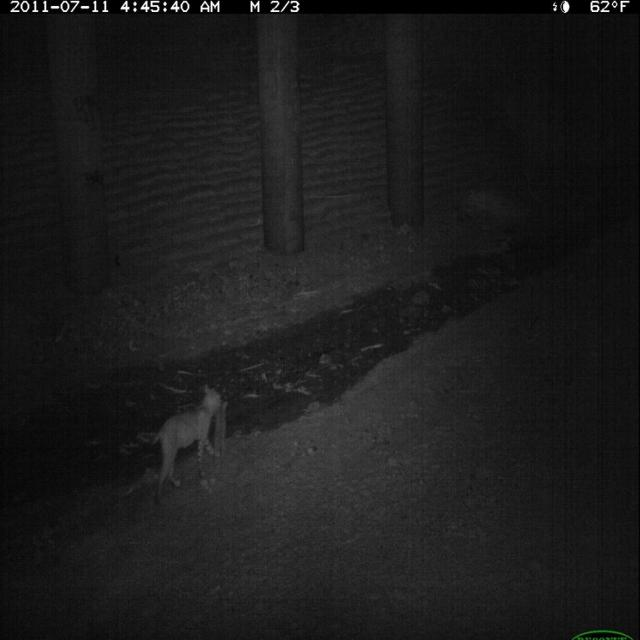bobcat: (148, 381, 236, 514)
rabbit: (213, 397, 232, 468)
